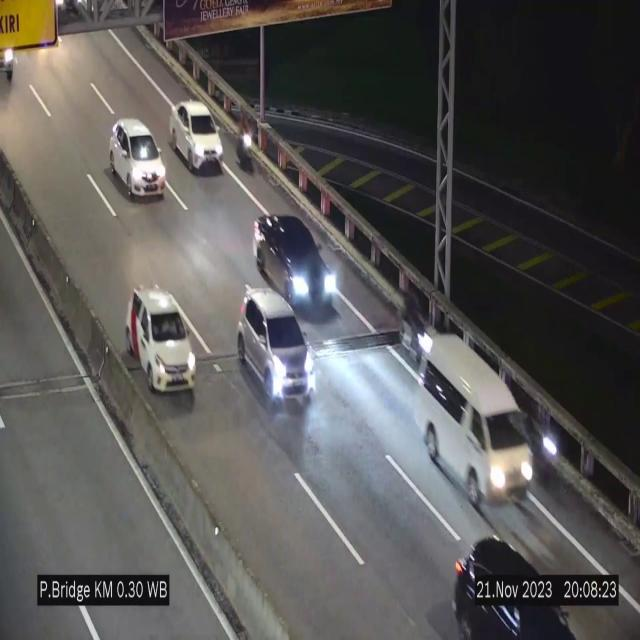Car: (416, 326, 530, 524), (447, 521, 582, 640), (252, 210, 338, 322), (238, 289, 310, 407), (131, 288, 195, 393), (110, 120, 166, 198), (168, 100, 224, 172)
Motorcycle: (530, 406, 558, 494), (400, 282, 426, 367), (239, 106, 257, 170)
